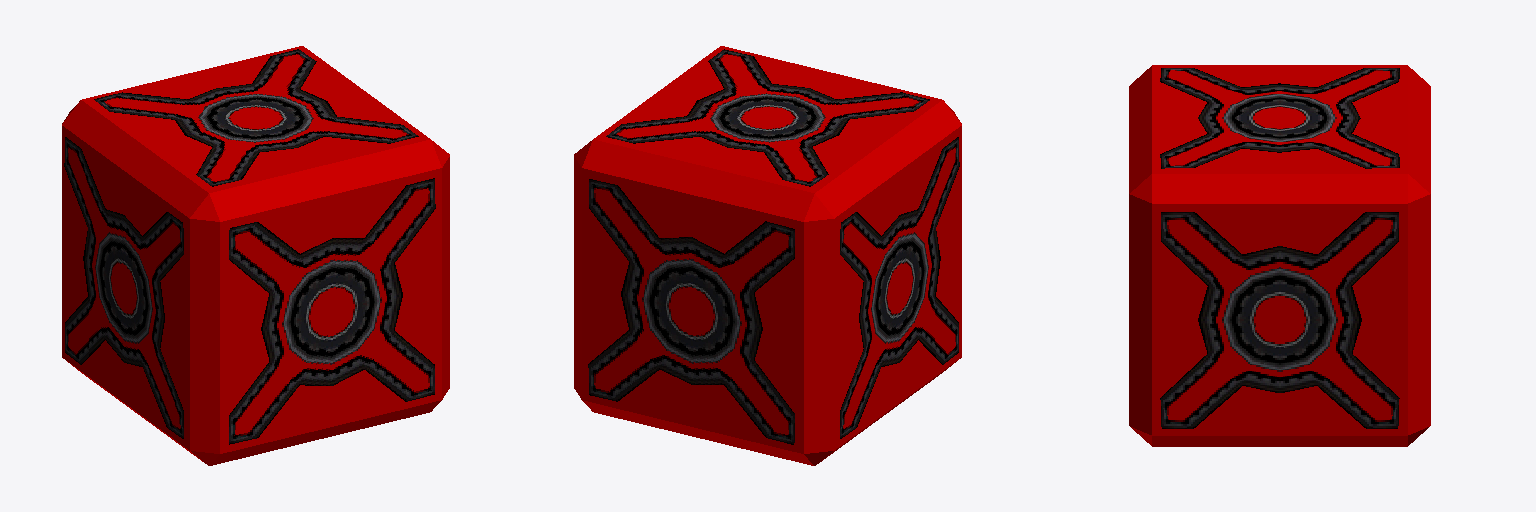
The picture shows the model from 3 angles: view 1: azimuth 30°, elevation 25°; view 2: azimuth 150°, elevation 25°; view 3: azimuth 270°, elevation 25°; orthographic projection.
Parts seen in each view (by area): view 1: polygon1, polygon0; view 2: polygon1, polygon0; view 3: polygon1, polygon0.
Part boxes in pixels (x1,y1,x2,y2): polygon1: (62, 46, 449, 465); polygon0: (64, 49, 435, 444); polygon1: (574, 46, 961, 465); polygon0: (588, 49, 959, 444); polygon1: (1129, 65, 1430, 446); polygon0: (1160, 68, 1399, 428).
Bounding box in the file's own units: 20.4 × 20.4 × 20.4.
Materials: 3 (2 with a texture image).